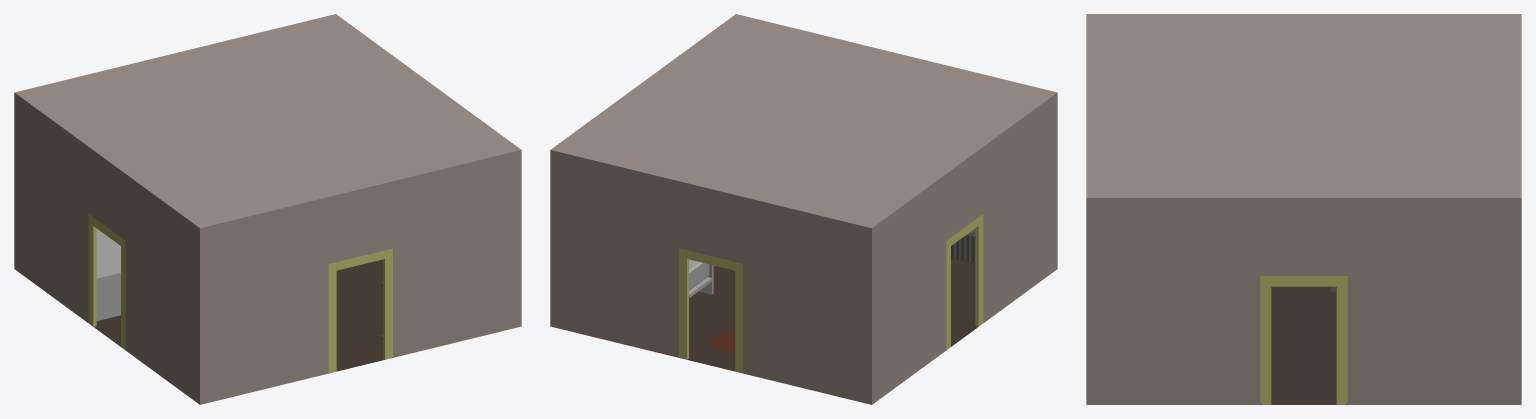
Rendered from Room39_ServantsQuarters.fbx.
The picture shows the model from 3 angles, left to right: view 1: azimuth 30°, elevation 25°; view 2: azimuth 150°, elevation 25°; view 3: azimuth 270°, elevation 25°; orthographic projection. The views are drawn at different scales.
Visible parts, largest first — view 1: Roof, WallSlicedPosZ, WallSlicedPosX, WallSlicedPosZ6, WallSlicedPosX19, Floor, DoorFramePosZ, DoorFramePosX, pCube57, pCube58, WallSlicedNegX, WallSlicedNegZ; view 2: Roof, WallSlicedNegZ, WallSlicedPosX, WallSlicedNegZ29, WallSlicedPosX19, Floor, DoorFrameNegZ, DoorFramePosX, heater, WallSlicedNegX, WallSlicedPosZ, pCube58; view 3: Roof, WallSlicedNegX, WallSlicedNegX6, Floor, DoorFrameNegX, WallSlicedPosZ, WallSlicedNegZ, WallSlicedPosX.
Part boxes in pixels (x1=…): Roof: x1=17, y1=15, x2=518, y2=227; WallSlicedPosZ: x1=199, y1=149, x2=521, y2=364; WallSlicedPosX: x1=14, y1=92, x2=201, y2=363; WallSlicedPosZ6: x1=199, y1=286, x2=521, y2=404; WallSlicedPosX19: x1=14, y1=229, x2=202, y2=404; Floor: x1=89, y1=259, x2=392, y2=373; DoorFramePosZ: x1=328, y1=248, x2=392, y2=372; DoorFramePosX: x1=88, y1=214, x2=125, y2=349; pCube57: x1=96, y1=271, x2=120, y2=320; pCube58: x1=96, y1=228, x2=120, y2=276; WallSlicedNegX: x1=335, y1=14, x2=521, y2=286; WallSlicedNegZ: x1=14, y1=14, x2=334, y2=228; Roof: x1=553, y1=15, x2=1054, y2=227; WallSlicedNegZ: x1=550, y1=149, x2=872, y2=364; WallSlicedPosX: x1=870, y1=92, x2=1056, y2=363; WallSlicedNegZ29: x1=550, y1=286, x2=872, y2=404; WallSlicedPosX19: x1=869, y1=230, x2=1057, y2=404; Floor: x1=679, y1=257, x2=982, y2=373; DoorFrameNegZ: x1=679, y1=248, x2=743, y2=372; DoorFramePosX: x1=946, y1=214, x2=983, y2=349; heater: x1=951, y1=228, x2=975, y2=263; WallSlicedNegX: x1=550, y1=14, x2=736, y2=286; WallSlicedPosZ: x1=736, y1=14, x2=1057, y2=228; pCube58: x1=689, y1=259, x2=709, y2=290; Roof: x1=1088, y1=14, x2=1519, y2=197; WallSlicedNegX: x1=1086, y1=197, x2=1521, y2=357; WallSlicedNegX6: x1=1086, y1=357, x2=1521, y2=404; Floor: x1=1260, y1=286, x2=1347, y2=404; DoorFrameNegX: x1=1260, y1=276, x2=1347, y2=404; WallSlicedPosZ: x1=1086, y1=14, x2=1087, y2=357; WallSlicedNegZ: x1=1520, y1=14, x2=1521, y2=357; WallSlicedPosX: x1=1088, y1=14, x2=1520, y2=14.
Bounding box in the file's own units: 800 × 420 × 800.
